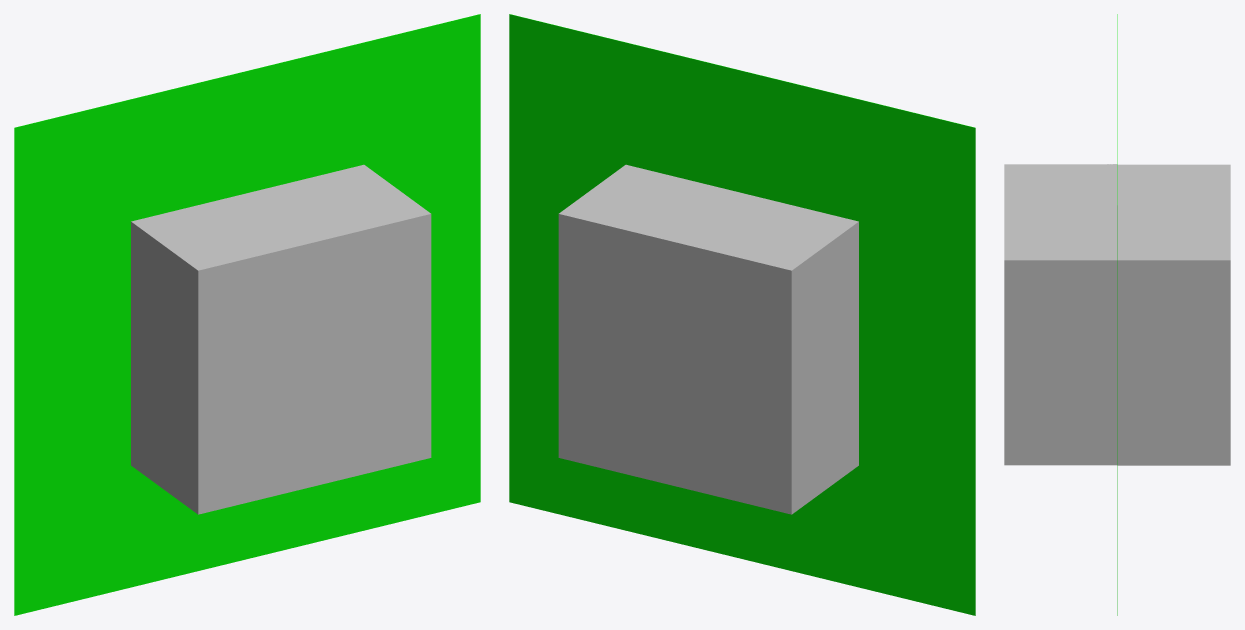
3 renders of one model, left to right at view 1: azimuth 30°, elevation 25°; view 2: azimuth 150°, elevation 25°; view 3: azimuth 270°, elevation 25°, orthographic. The views are drawn at different scales.
Parts seen in each view (by area): view 1: yard, house; view 2: yard, house; view 3: house, yard.
Part boxes in pixels (x1,y1,x2,y2): yard: (14, 14, 480, 615); house: (131, 164, 431, 514); yard: (509, 14, 975, 615); house: (558, 164, 858, 514); house: (1004, 164, 1230, 465); yard: (1117, 14, 1117, 615).
Size of the model in its own units: 2000 by 2000 by 1000.
